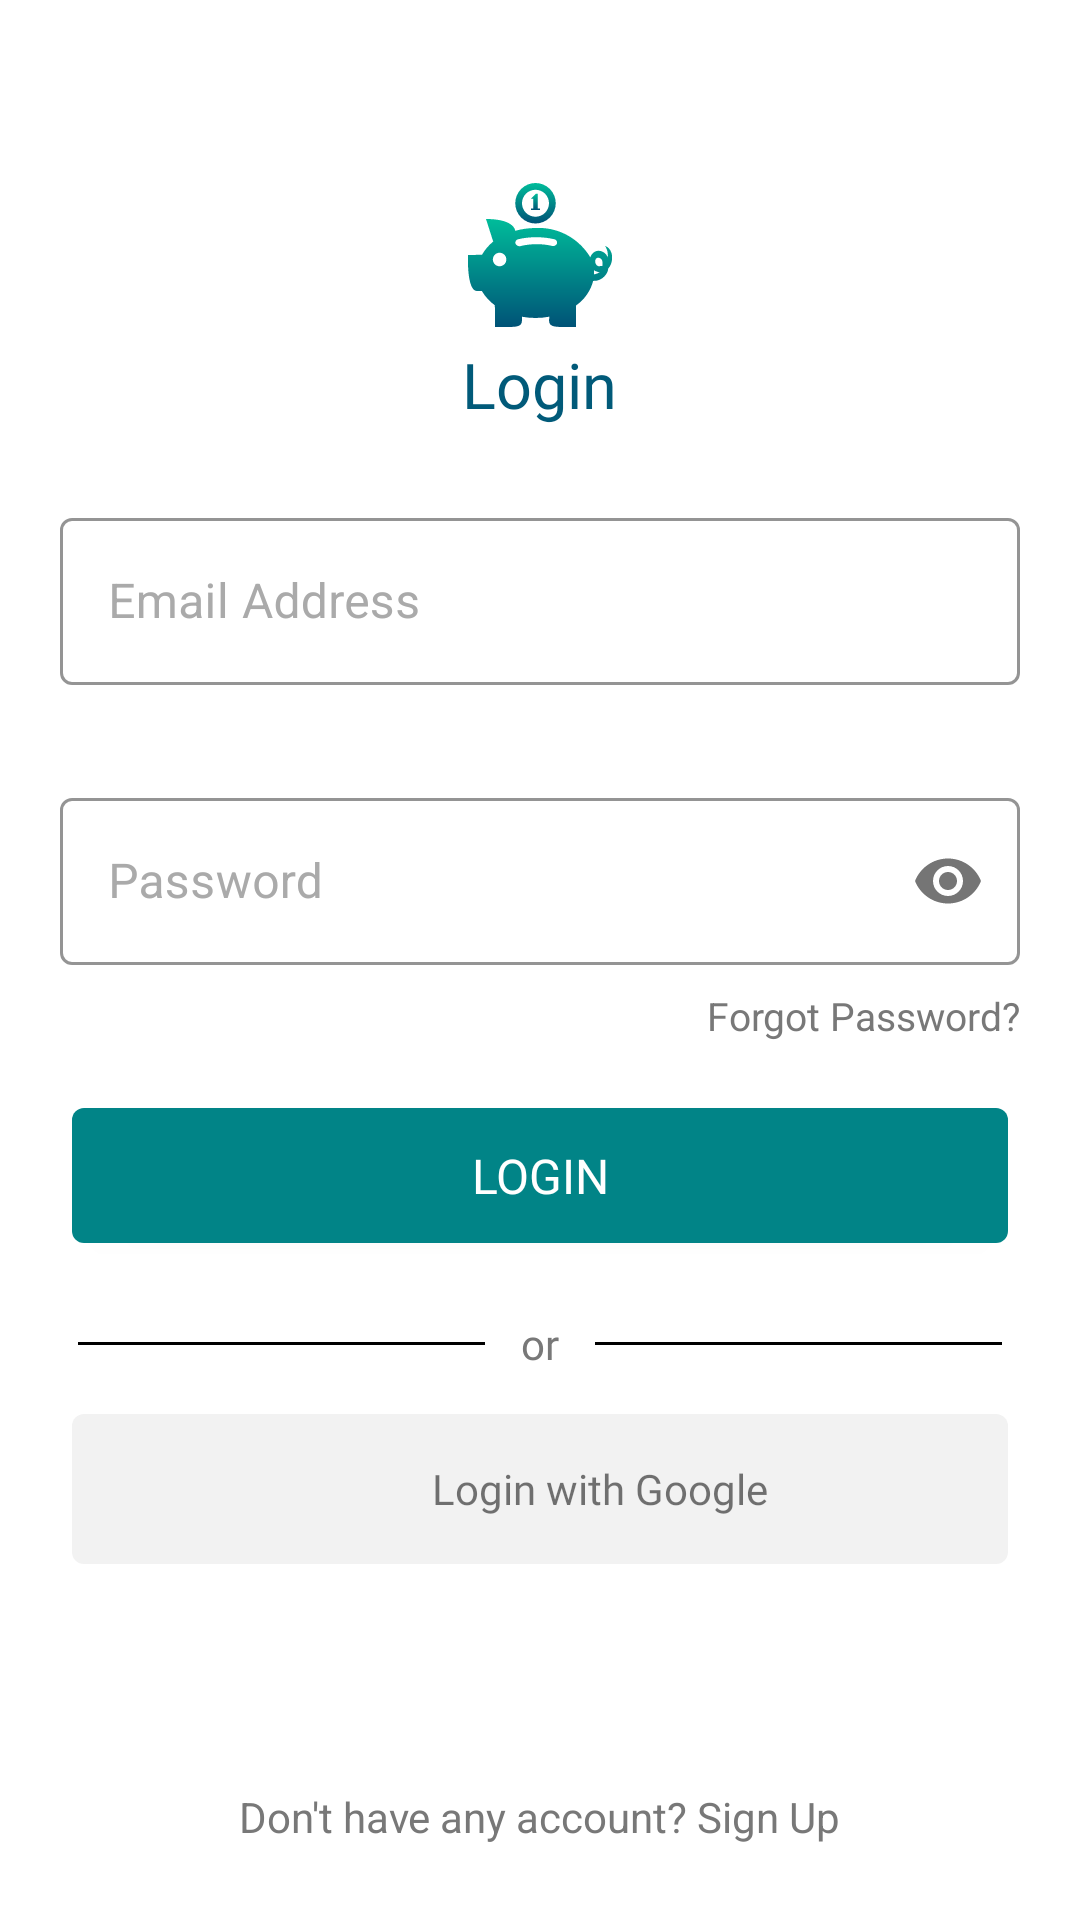

Screen size 1080×1920. Icon name, then its center in pixels as (x=x, y=y):
vaadin piggy bank coin: (x=540, y=255)
